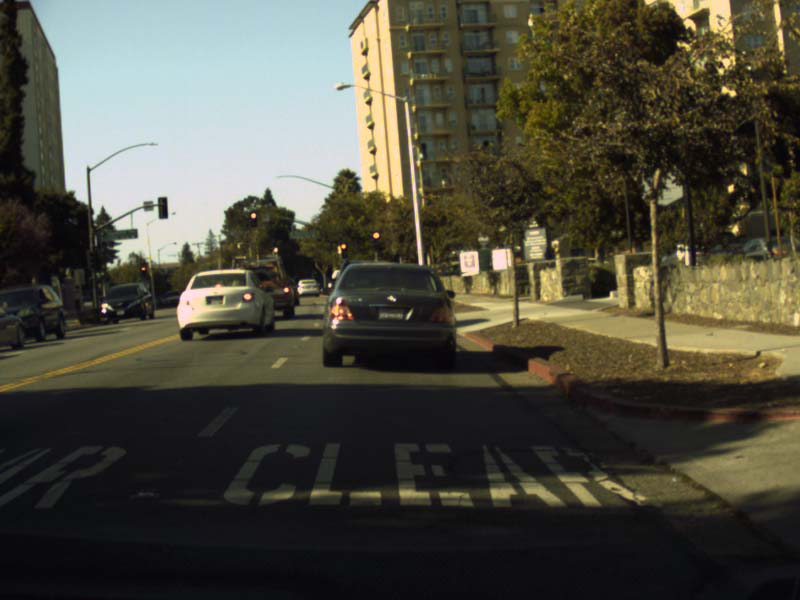Red: (371, 230, 380, 250), (139, 262, 146, 276), (250, 211, 256, 227), (341, 242, 347, 258)
